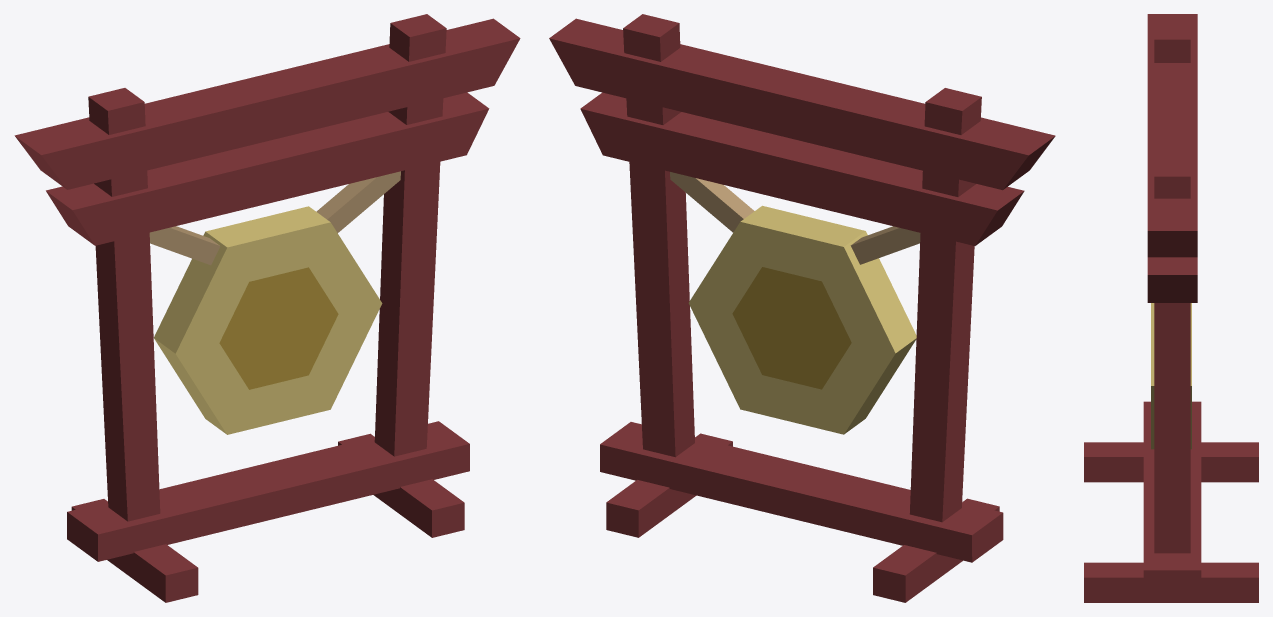
File: Gong_Tiny.fbx
The picture shows the model from 3 angles, left to right: view 1: azimuth 30°, elevation 25°; view 2: azimuth 150°, elevation 25°; view 3: azimuth 270°, elevation 25°; orthographic projection. The views are drawn at different scales.
Visible parts, largest first — view 1: SM_Prop_Samurai_Gong_01; view 2: SM_Prop_Samurai_Gong_01; view 3: SM_Prop_Samurai_Gong_01.
Boxes of the visible parts, box(x1,y1,x2,y2) form: SM_Prop_Samurai_Gong_01: box(14, 14, 520, 602); SM_Prop_Samurai_Gong_01: box(549, 14, 1055, 602); SM_Prop_Samurai_Gong_01: box(1084, 14, 1258, 602).
Size of the model in its own units: 85.78 by 80.26 by 29.2.
